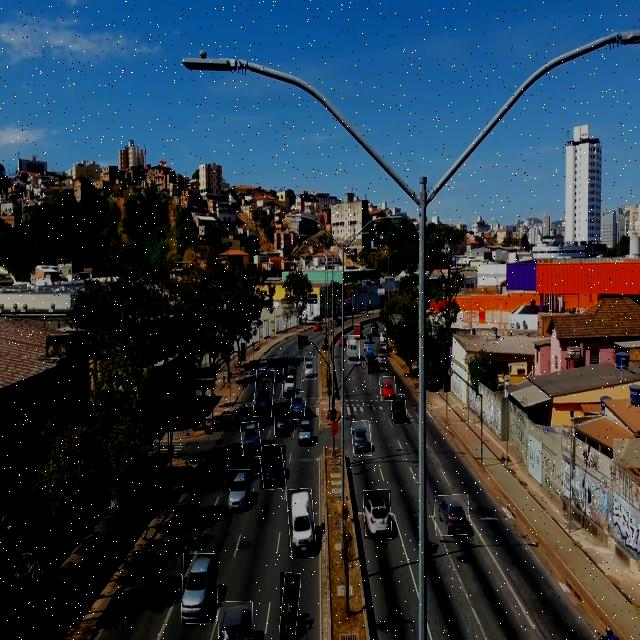Car: (181, 554, 218, 624), (217, 601, 253, 640), (435, 495, 469, 536), (364, 490, 391, 539), (260, 445, 286, 489), (228, 469, 250, 512), (241, 422, 261, 457), (352, 421, 372, 456), (275, 402, 291, 438), (298, 416, 314, 446), (291, 392, 306, 420), (392, 395, 406, 424), (283, 368, 296, 398), (380, 376, 395, 401), (348, 335, 360, 364), (304, 356, 316, 380)
Motorcycle: (280, 572, 299, 640)
Truck: (288, 489, 315, 558), (254, 370, 274, 417)
